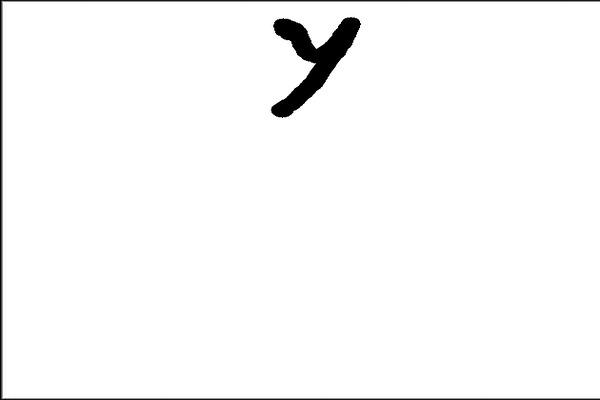Y: (259, 8, 375, 119)
